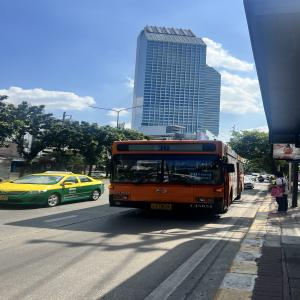BMTA-bus: (106, 139, 244, 216)
Bus Line Number: (155, 144, 172, 151)
Bus Side Number: (187, 202, 215, 210)
Destination Sign: (189, 171, 213, 180)
